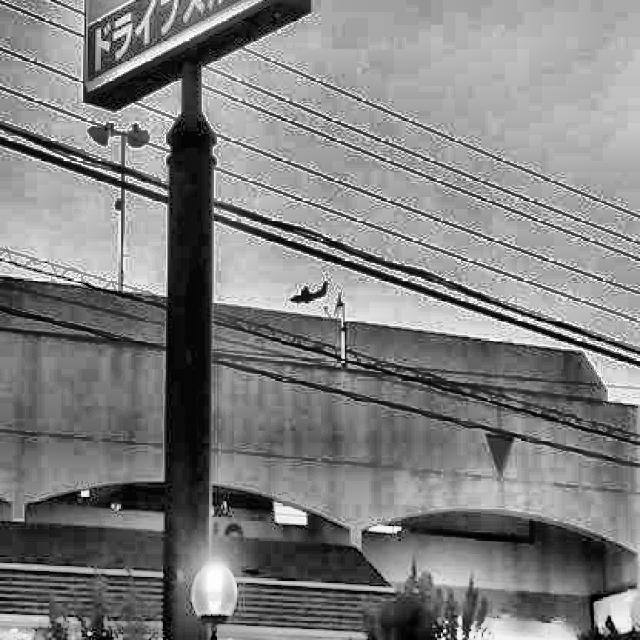US2: (289, 281, 331, 305)
